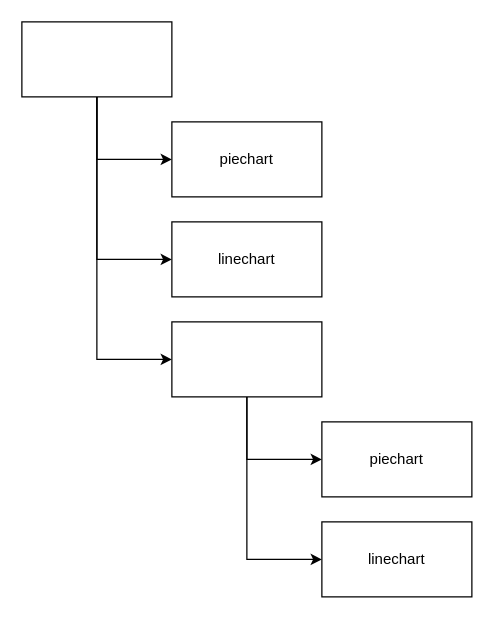
The diagram is 494 pixels wide and 619 high, and some of its shapes have lost their labels. The shapes that lost their labels are listed below. From the top down, each one's centre as x and y in pixels, then its label:
(x=96, y=59): charts
(x=246, y=359): utils
